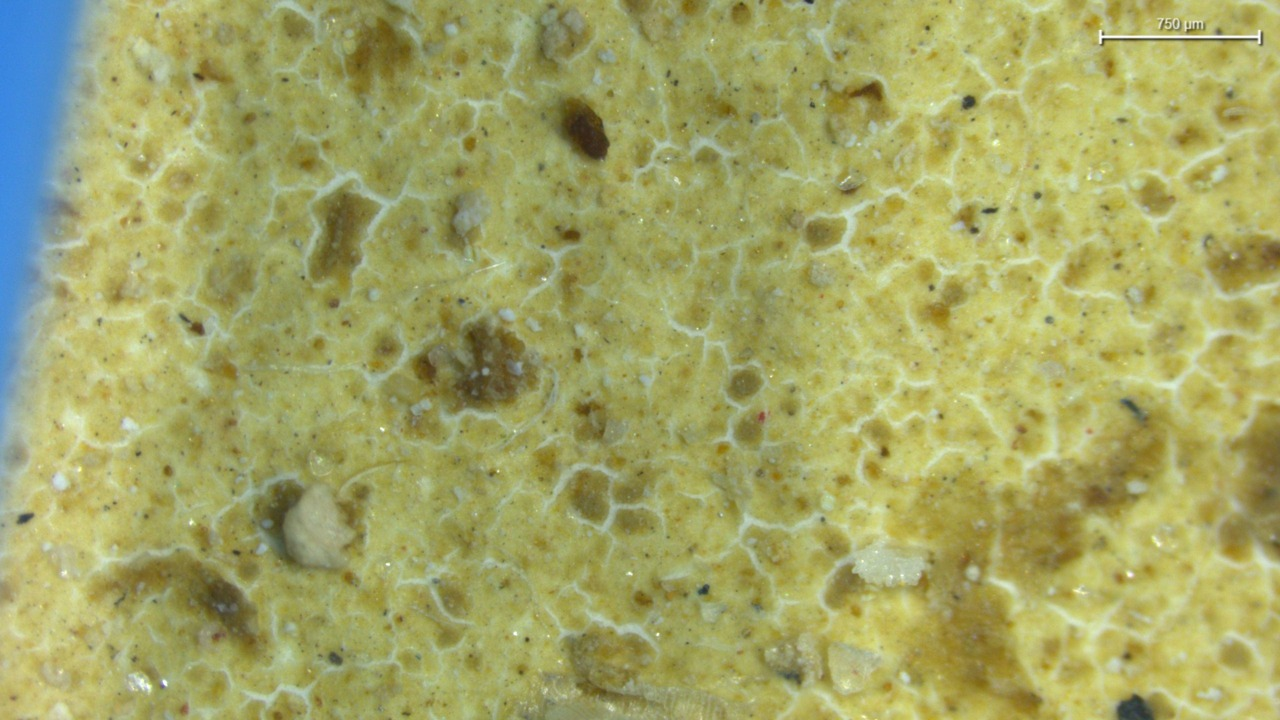microplastic_fragment: (283, 484, 355, 568), (851, 541, 928, 586)
